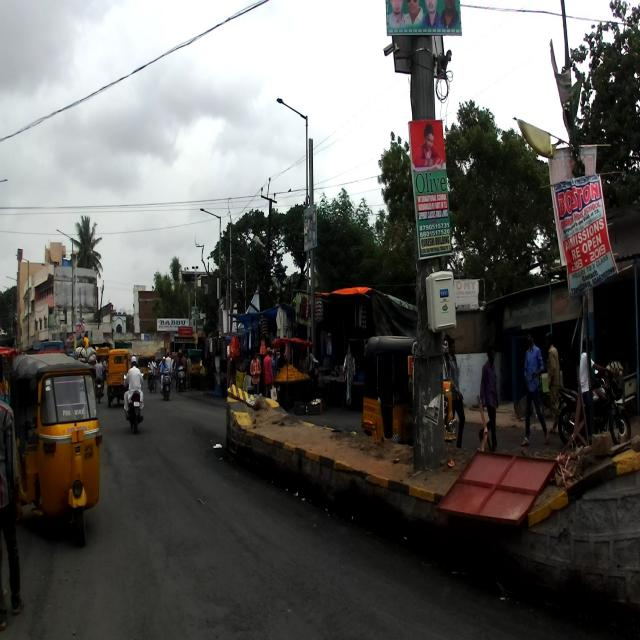autorickshaw: (8, 351, 103, 549), (361, 333, 457, 449)
motorcycle: (555, 367, 631, 454)
